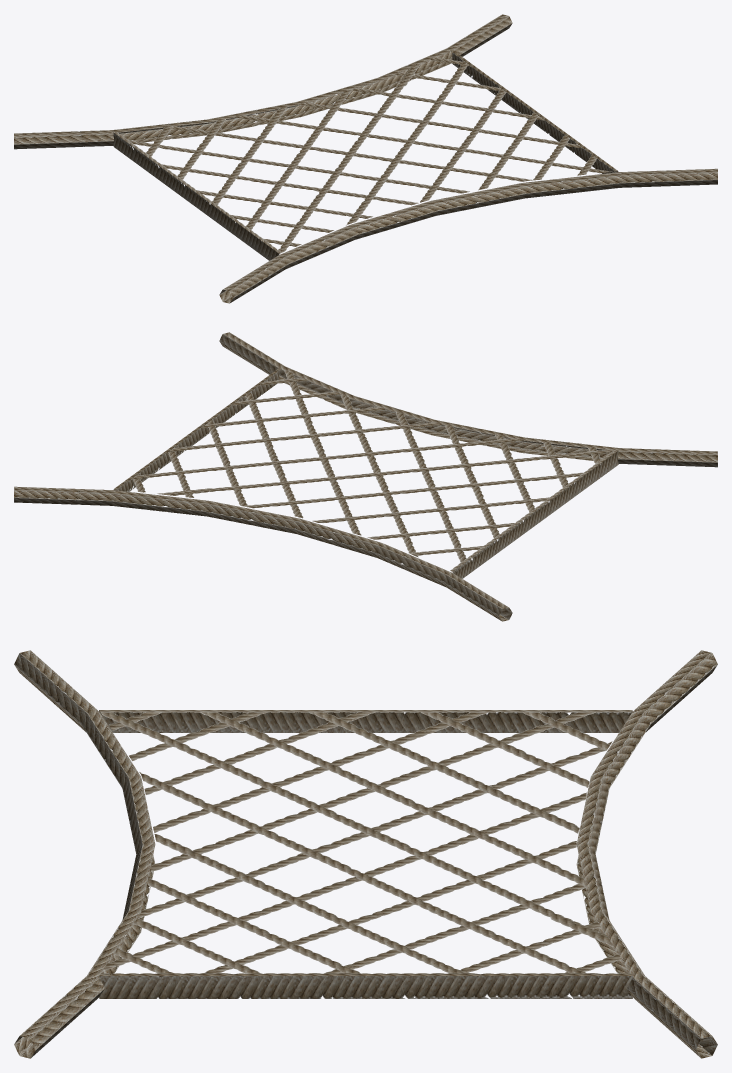
The model's file is SM_Spider_net.fbx.
3 renders of one model, top to bottom at view 1: azimuth 30°, elevation 25°; view 2: azimuth 150°, elevation 25°; view 3: azimuth 270°, elevation 25°, orthographic. The views are drawn at different scales.
Visible parts, largest first — view 1: SM_Spider_net.003; view 2: SM_Spider_net.003; view 3: SM_Spider_net.003.
Part boxes in pixels (<box>): SM_Spider_net.003: <box>14,14,717,303</box>; SM_Spider_net.003: <box>14,332,717,621</box>; SM_Spider_net.003: <box>14,650,717,1058</box>.
Bounding box in the file's own units: 2902 × 80 × 2206.
Materials: 1 (1 with a texture image).
